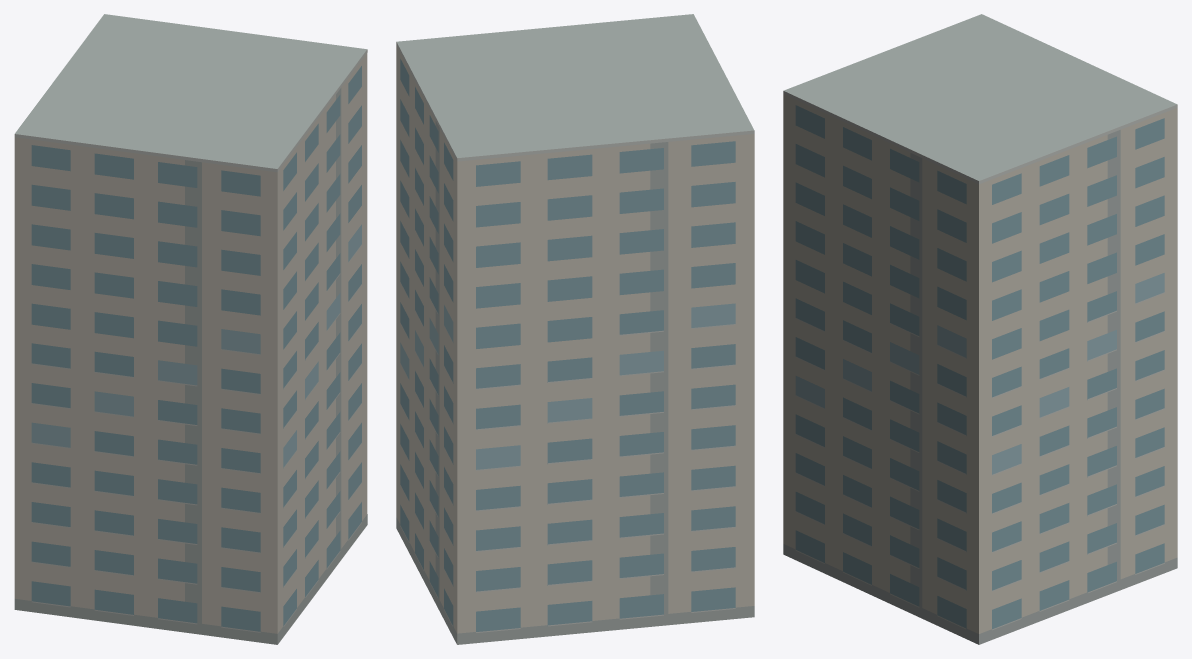
File: residential-415351dd-d9ad-41f6-9d7c-5d142d39c037.glb
3 renders of one model, left to right at view 1: azimuth 30°, elevation 25°; view 2: azimuth 150°, elevation 25°; view 3: azimuth 270°, elevation 25°, orthographic. The views are drawn at different scales.
Visible parts, largest first — view 1: residential-415351dd-d9ad-41f6-9d7c-5d142d39c037.tmp; view 2: residential-415351dd-d9ad-41f6-9d7c-5d142d39c037.tmp; view 3: residential-415351dd-d9ad-41f6-9d7c-5d142d39c037.tmp.
Boxes of the visible parts, box(x1,y1,x2,y2) form: residential-415351dd-d9ad-41f6-9d7c-5d142d39c037.tmp: box(14, 14, 367, 644); residential-415351dd-d9ad-41f6-9d7c-5d142d39c037.tmp: box(396, 14, 754, 644); residential-415351dd-d9ad-41f6-9d7c-5d142d39c037.tmp: box(783, 14, 1177, 644).
Bounding box in the file's own units: 27.06 × 35 × 26.97.
